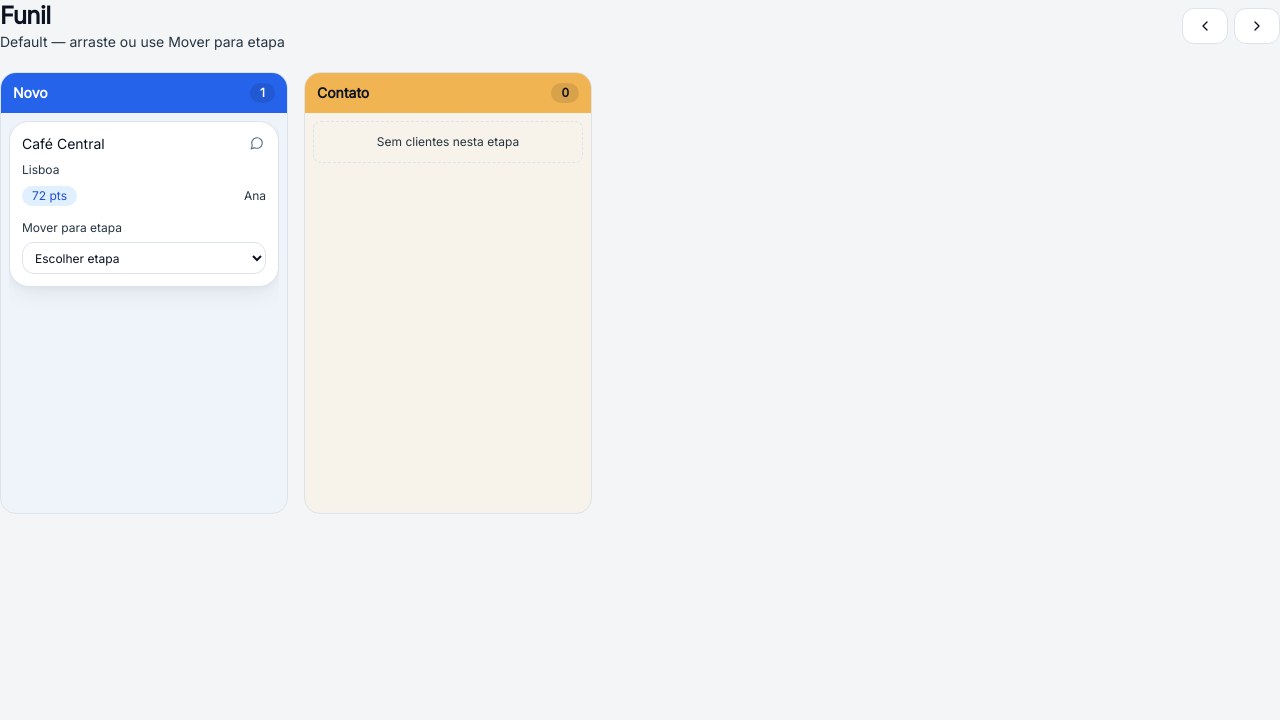
Test: PipelinePage › opens WhatsApp outreach modal from kanban card
The image size is (1280, 720).
Click the button with test id "kanban-whatsapp-lead-1": (257, 143) [248, 134, 266, 152]
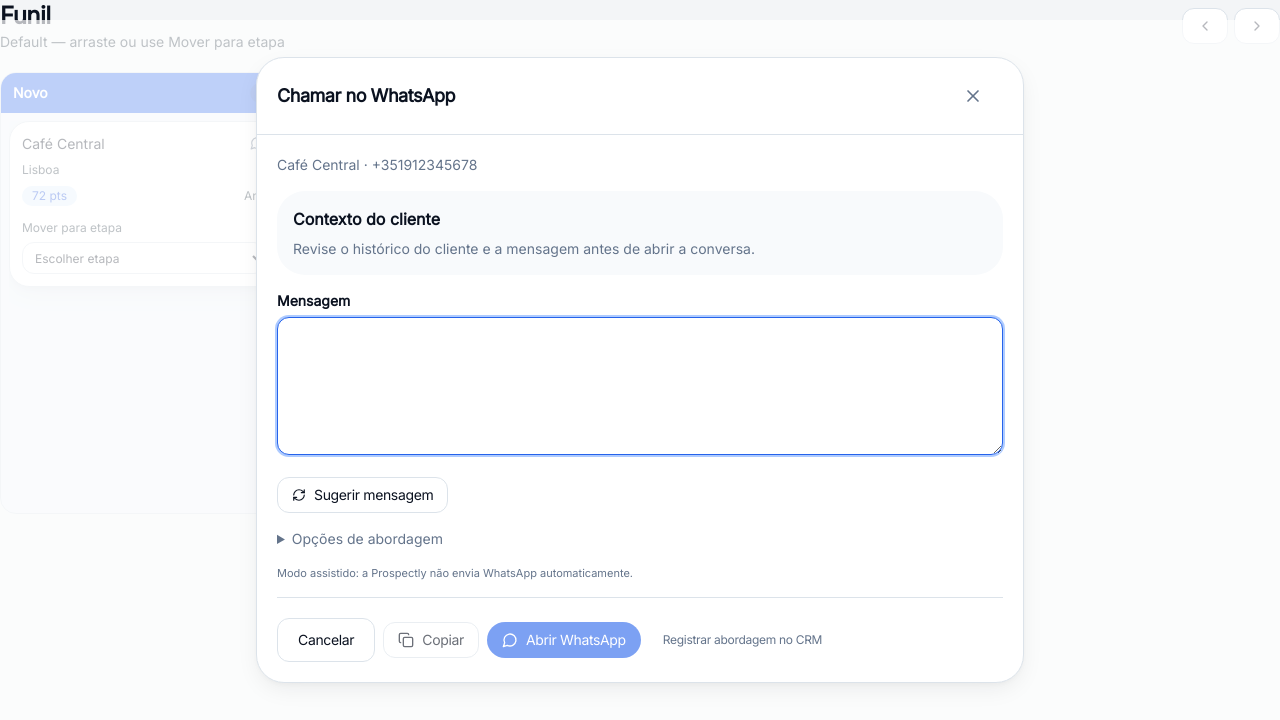
Expected: the dialog is shown
Expected: the heading "Chamar no WhatsApp" is shown, [277, 82, 455, 110]
